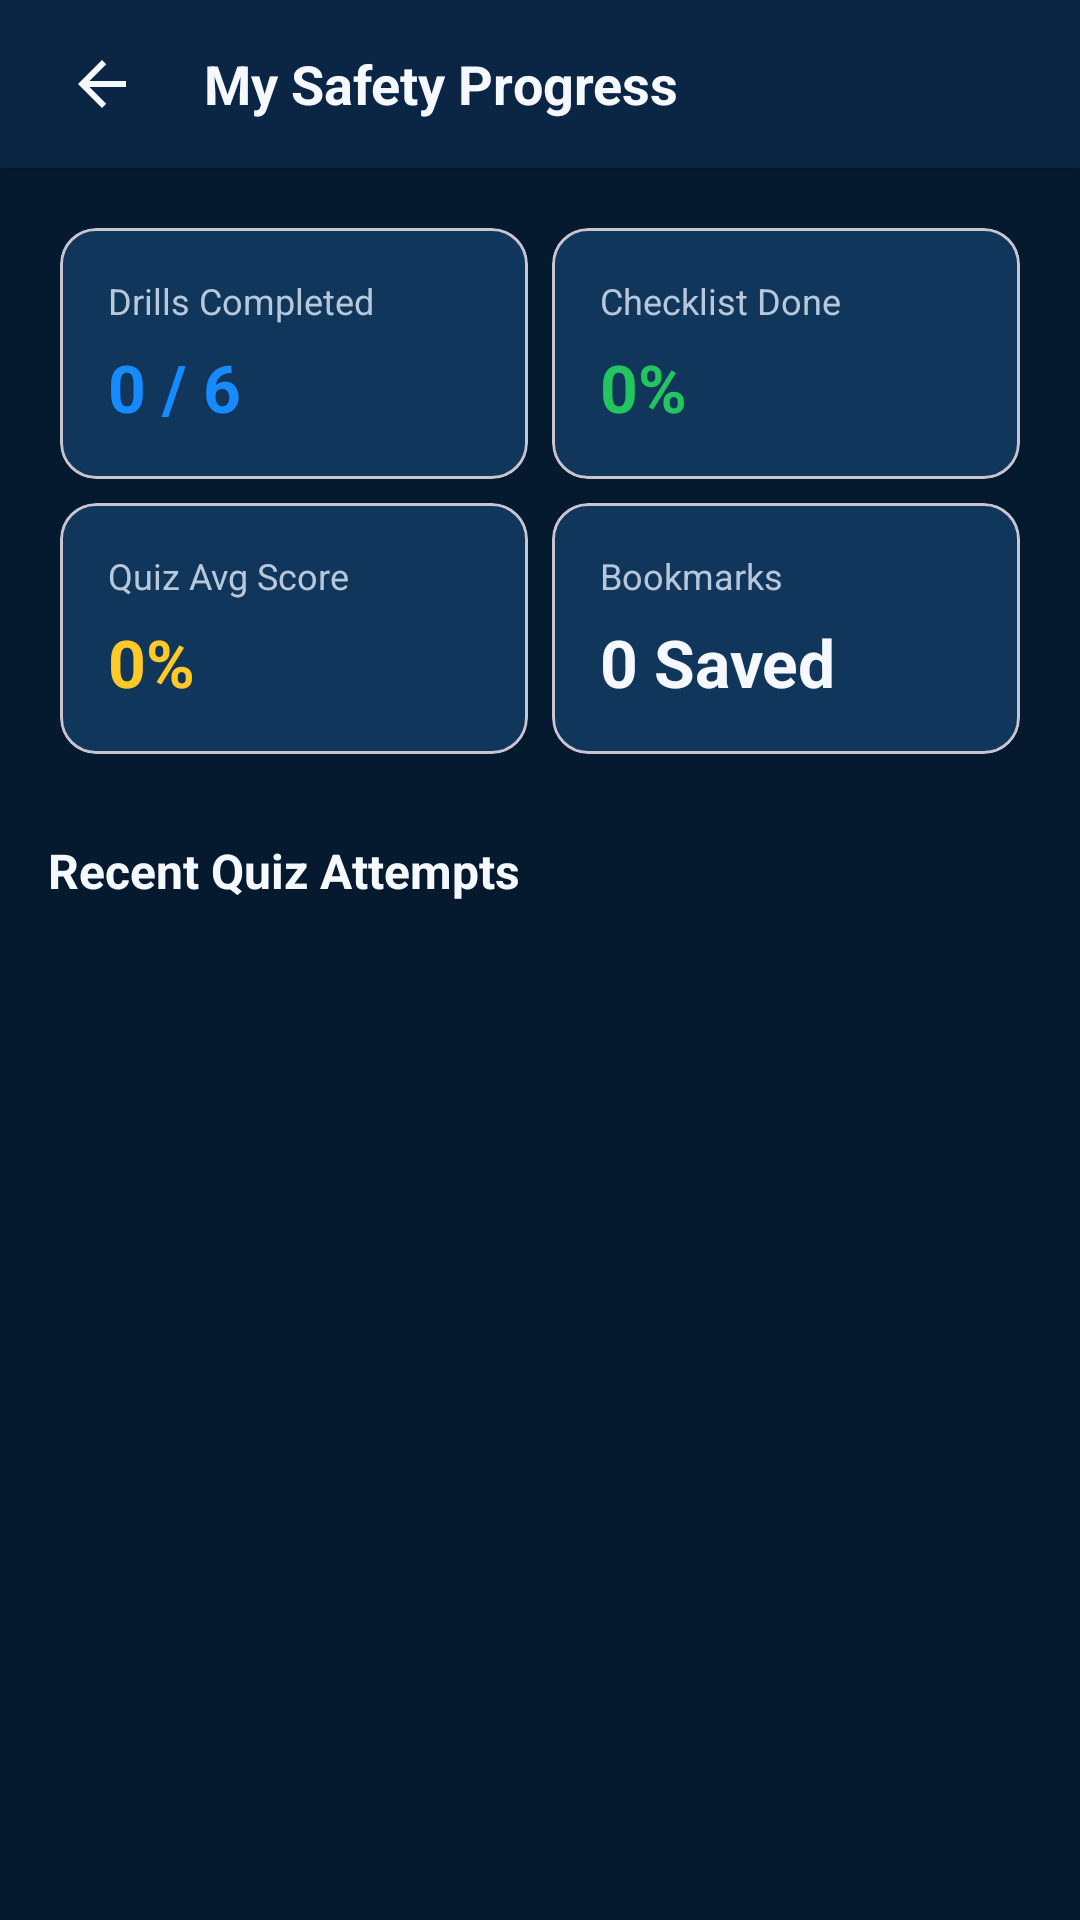

Where icons sit on this 1080px×1920px app screen, as [x1=x1, y1=y1, x2=x2, y2=y2]:
Back: [x1=78, y1=60, x2=126, y2=108]
